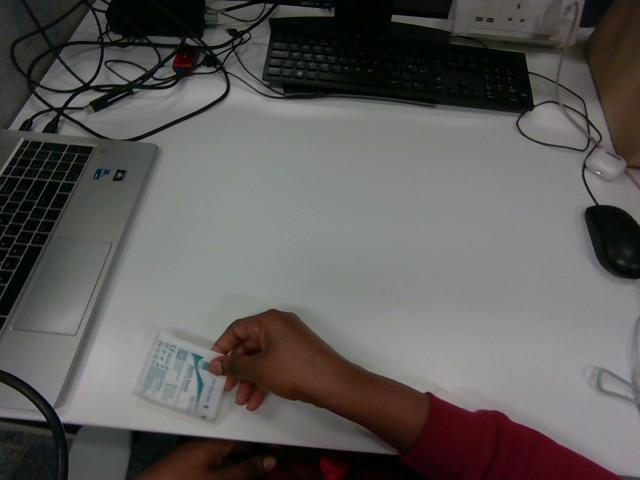gauze: (135, 332, 224, 419)
